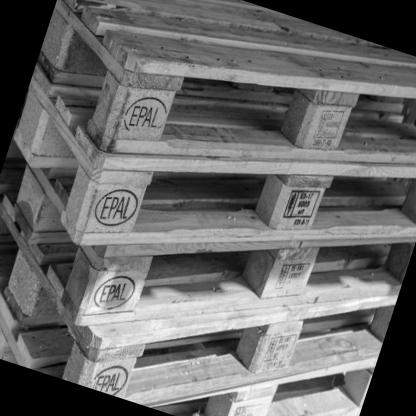BoxFace: (0, 142, 416, 328), (15, 75, 416, 247), (37, 0, 416, 168)
